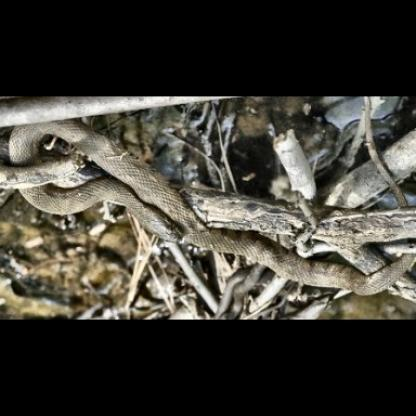Snake: (0, 116, 411, 320)
